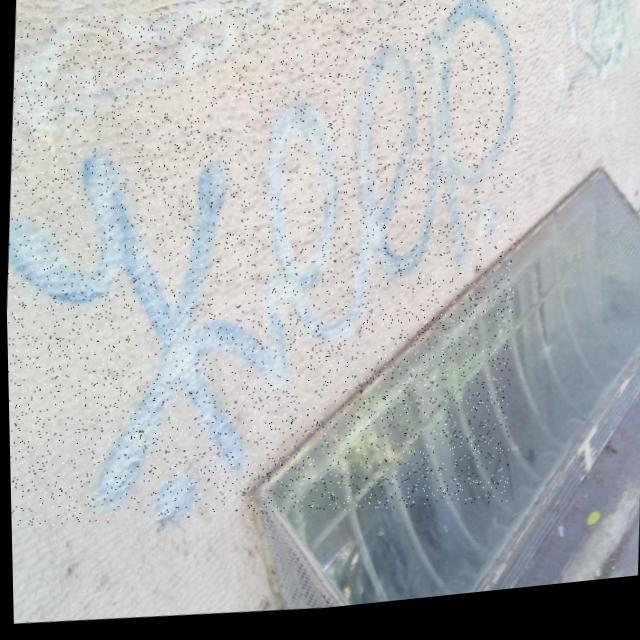-: (1, 0, 530, 553)
